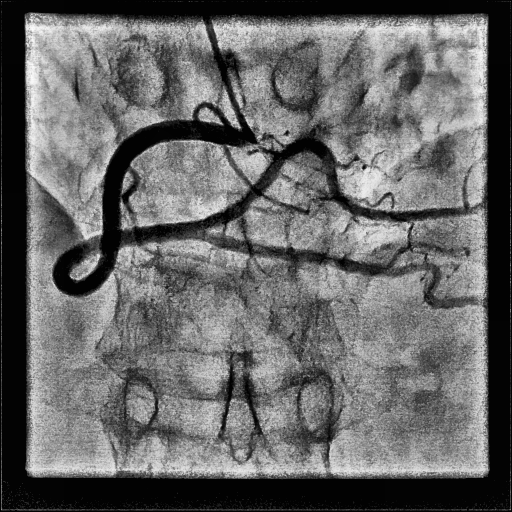pborca: (196, 139, 482, 230)
pda: (201, 232, 478, 308)
rca: (52, 119, 237, 297)
